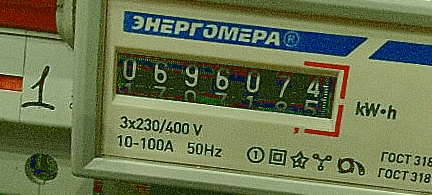0: (117, 53, 139, 80), (243, 66, 262, 94)
4: (304, 72, 323, 98)
5: (302, 96, 319, 116)
6: (150, 55, 172, 84), (211, 64, 231, 90)
7: (272, 70, 293, 98)
9: (179, 60, 201, 87)
screen: (95, 29, 355, 140)
